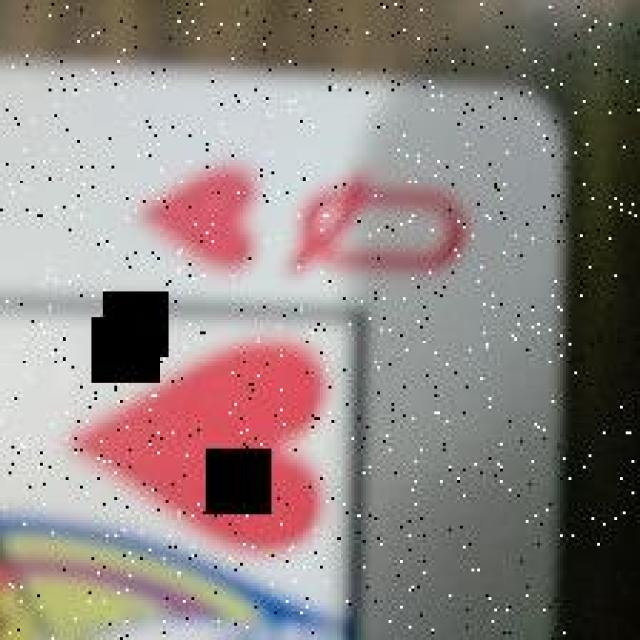Queen of hearts: (0, 60, 565, 640)
